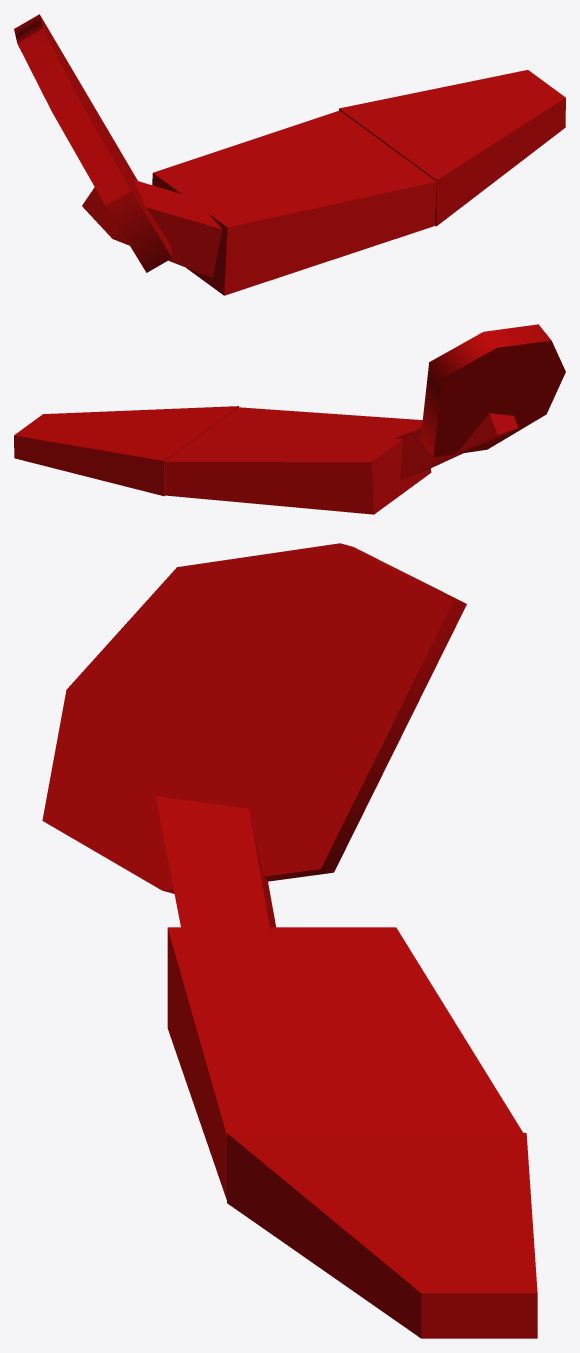
The model's file is SM_Prop_Whale_Skeleton_01_Fin_02_Collision.gltf.
3 renders of one model, top to bottom at view 1: azimuth 30°, elevation 25°; view 2: azimuth 150°, elevation 25°; view 3: azimuth 270°, elevation 25°, orthographic. The views are drawn at different scales.
Visible parts, largest first — view 1: SM_Prop_Whale_Skeleton_01_Fin_02_Collision; view 2: SM_Prop_Whale_Skeleton_01_Fin_02_Collision; view 3: SM_Prop_Whale_Skeleton_01_Fin_02_Collision.
Boxes of the visible parts, bbox=[...] form: SM_Prop_Whale_Skeleton_01_Fin_02_Collision: bbox=[14, 14, 565, 295]; SM_Prop_Whale_Skeleton_01_Fin_02_Collision: bbox=[14, 324, 565, 514]; SM_Prop_Whale_Skeleton_01_Fin_02_Collision: bbox=[42, 543, 537, 1338].
Bounding box in the file's own units: 6.38 × 2.75 × 3.04.
